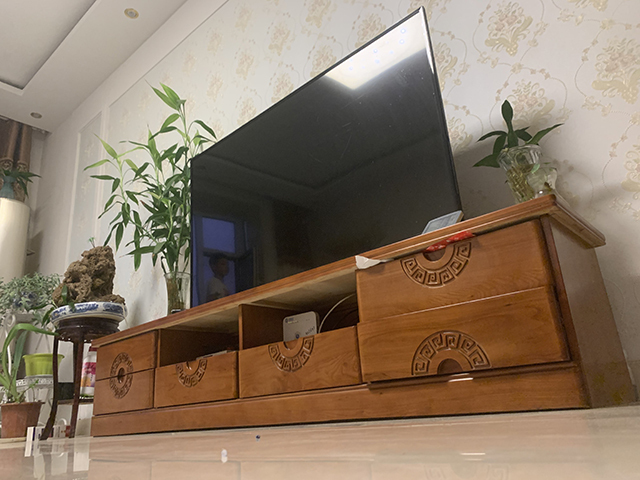cabinet: (88, 193, 640, 439)
